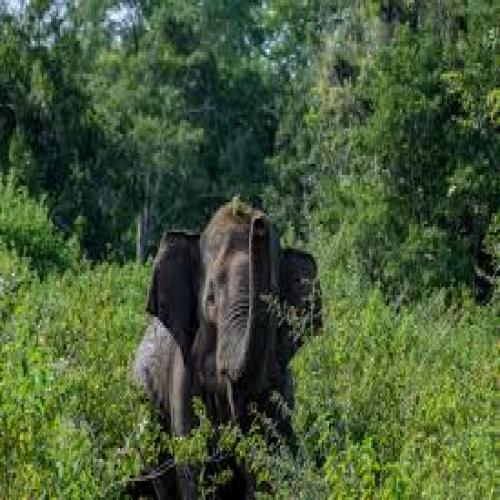asian_elephant-endangered: (128, 196, 321, 452)
